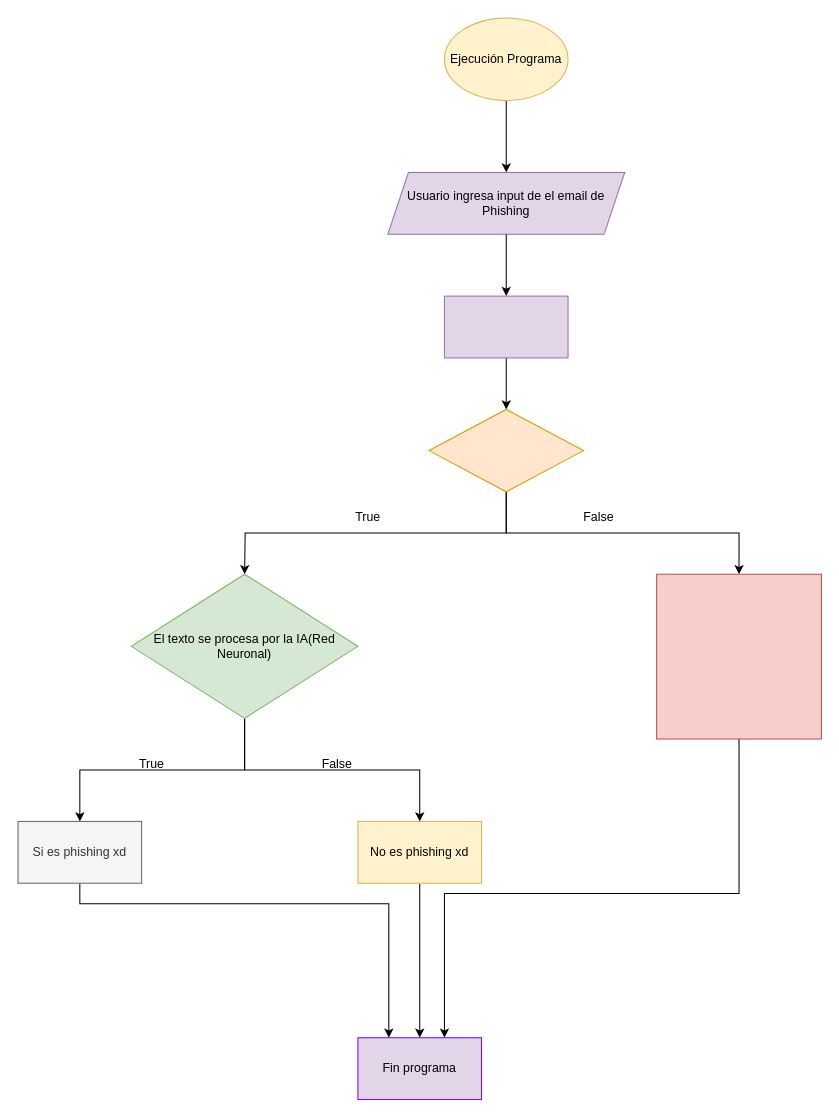
The diagram is 839 pixels wide and 1118 high, and some of its shapes have lost their labels. Each missing label, with the centre of its shape:
"ML determina el input" goes at (505,450).
"ML, procesa el Input" goes at (505,326).
"Texto no Procesado o en un Idioma no implementado" goes at (738,656).
